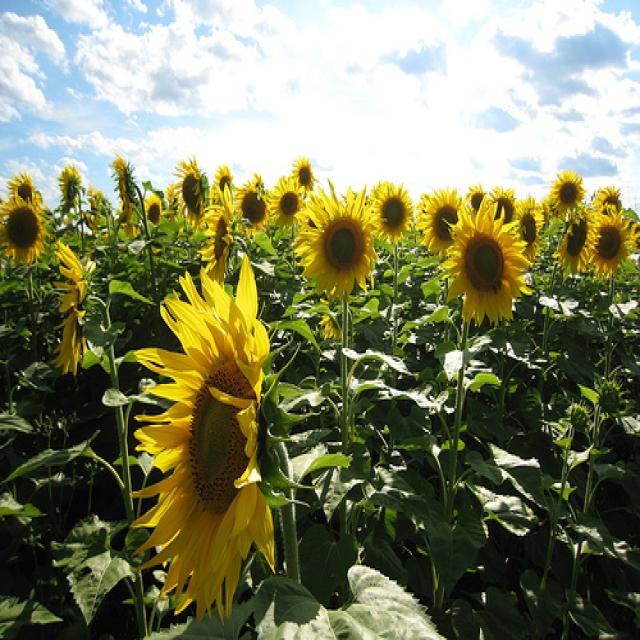sunflower: (124, 255, 299, 618), (439, 203, 534, 340), (296, 182, 389, 298), (51, 234, 96, 386), (1, 191, 55, 278), (173, 148, 214, 234), (585, 208, 630, 284), (232, 172, 279, 244), (546, 160, 594, 227), (368, 183, 416, 248), (1, 169, 45, 222), (51, 160, 90, 210), (286, 152, 322, 203)
